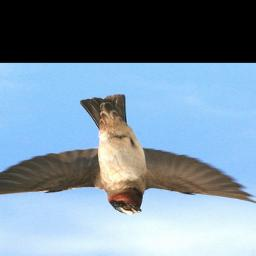Swallow: (0, 94, 256, 216)
